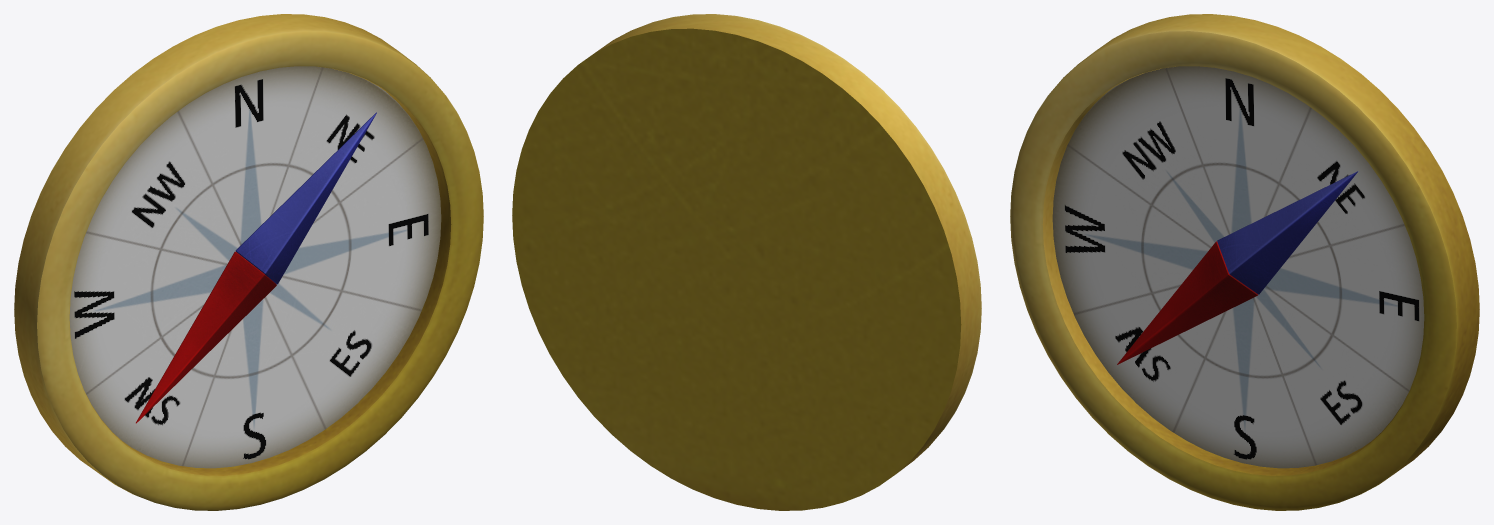
File: zhinanzhen.FBX
The picture shows the model from 3 angles, left to right: view 1: azimuth 30°, elevation 25°; view 2: azimuth 150°, elevation 25°; view 3: azimuth 330°, elevation 25°; orthographic projection.
Parts seen in each view (by area): view 1: zhinanzhen, zhizhen; view 2: zhinanzhen; view 3: zhinanzhen, zhizhen.
Boxes of the visible parts, x1,y1,x2,y2 form: zhinanzhen: (14, 14, 483, 510); zhizhen: (136, 112, 376, 423); zhinanzhen: (512, 14, 981, 510); zhinanzhen: (1010, 14, 1479, 510); zhizhen: (1117, 171, 1358, 364).
Size of the model in its own units: 0.5338 by 0.5338 by 0.054.
1 material, 1 textured.
